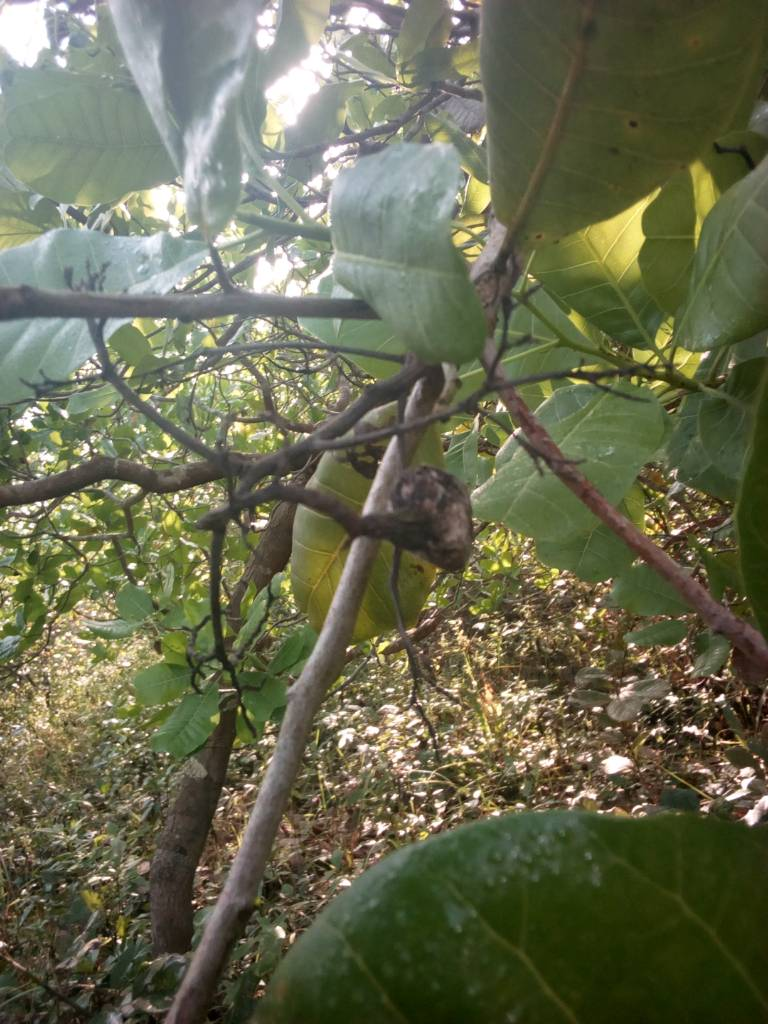Die-black: (379, 455, 511, 578)
